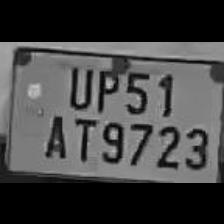1: (153, 64, 177, 116)
2: (152, 120, 180, 168)
3: (180, 120, 210, 170)
5: (119, 58, 150, 114)
7: (125, 117, 151, 165)
9: (96, 114, 124, 164)
A: (39, 108, 67, 160)
P: (92, 59, 120, 111)
T: (68, 112, 96, 162)
U: (64, 58, 94, 110)
